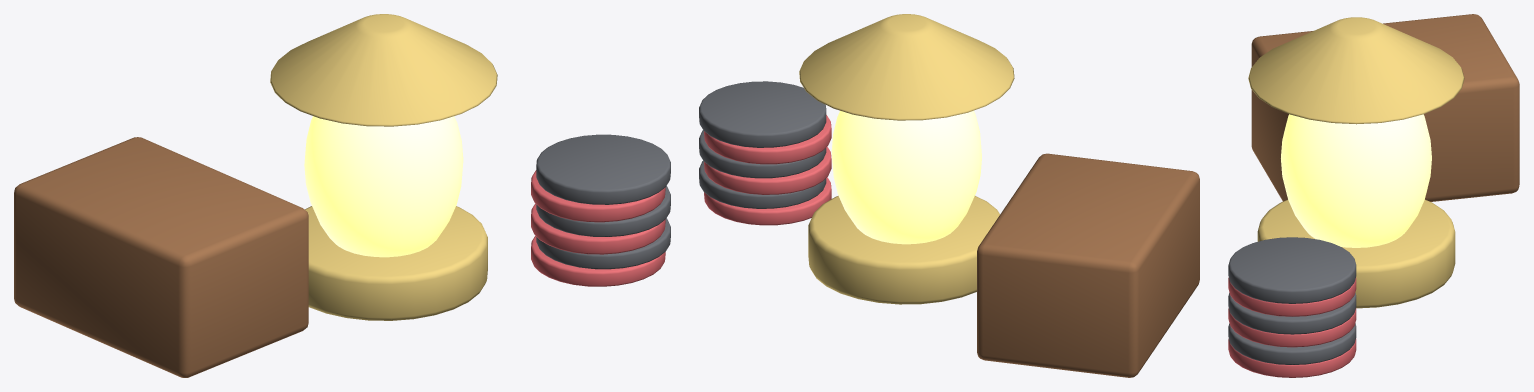
The model's file is table_props.glb.
3 views of the same model, side by side, from view 1: azimuth 30°, elevation 25°; view 2: azimuth 150°, elevation 25°; view 3: azimuth 270°, elevation 25° (orthographic). The views are drawn at different scales.
Visible parts, largest first — view 1: Cube, Cone, Sphere, Cylinder, Cylinder.006, Cylinder.005, Cylinder.001, Cylinder.003, Cylinder.002, Cylinder.004; view 2: Cube, Cone, Sphere, Cylinder, Cylinder.006, Cylinder.005, Cylinder.003, Cylinder.001, Cylinder.004, Cylinder.002; view 3: Cube, Cone, Sphere, Cylinder, Cylinder.006, Cylinder.004, Cylinder.002, Cylinder.001, Cylinder.005, Cylinder.003.
Boxes of the visible parts, x1,y1,x2,y2 form: Cube: (14,137,308,377); Cone: (270,14,497,126); Sphere: (304,116,463,257); Cylinder: (305,206,487,320); Cylinder.006: (536,134,670,204); Cylinder.005: (531,170,665,222); Cylinder.001: (531,236,665,286); Cylinder.003: (531,203,665,254); Cylinder.002: (536,218,670,269); Cylinder.004: (536,186,670,236); Cube: (977,153,1199,377); Cone: (799,14,1014,120); Sphere: (831,110,981,244); Cylinder: (808,196,999,304); Cylinder.006: (699,81,826,147); Cylinder.005: (704,115,831,164); Cylinder.003: (704,146,831,194); Cylinder.001: (704,177,831,225); Cylinder.004: (699,130,826,178); Cylinder.002: (699,160,826,208); Cube: (1251,14,1519,201); Cone: (1248,17,1464,124); Sphere: (1281,114,1431,247); Cylinder: (1257,199,1455,308); Cylinder.006: (1228,237,1356,303); Cylinder.004: (1228,293,1356,334); Cylinder.002: (1228,323,1356,364); Cylinder.001: (1228,338,1356,377); Cylinder.005: (1228,277,1356,316); Cylinder.003: (1228,308,1356,347).
Bounding box in the file's own units: 2.07 × 0.92 × 1.
